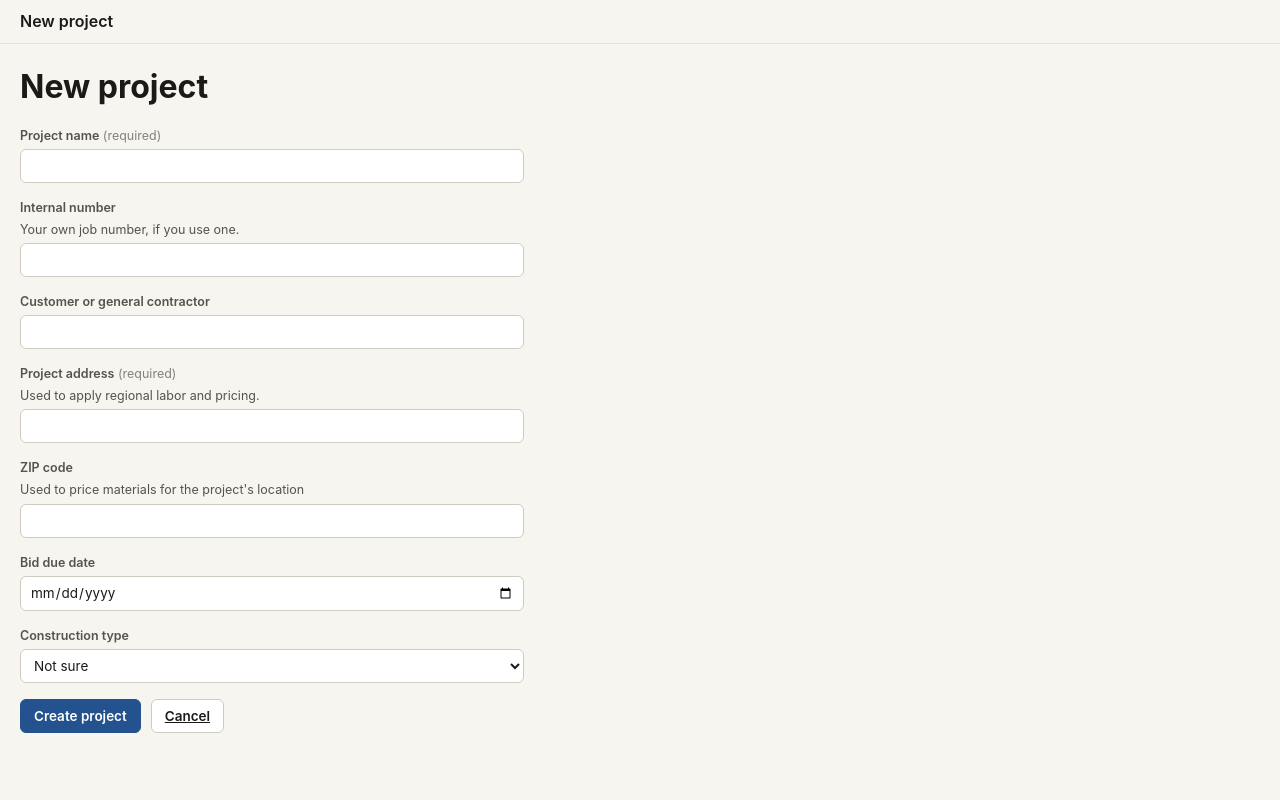
NewProject › blocks submission with a message beside the field when the name is blank
The width and height of the screenshot is (1280, 800).
In the field labelled "Project address (required)": [272, 426] box [20, 409, 524, 443], type "Modesto, CA"
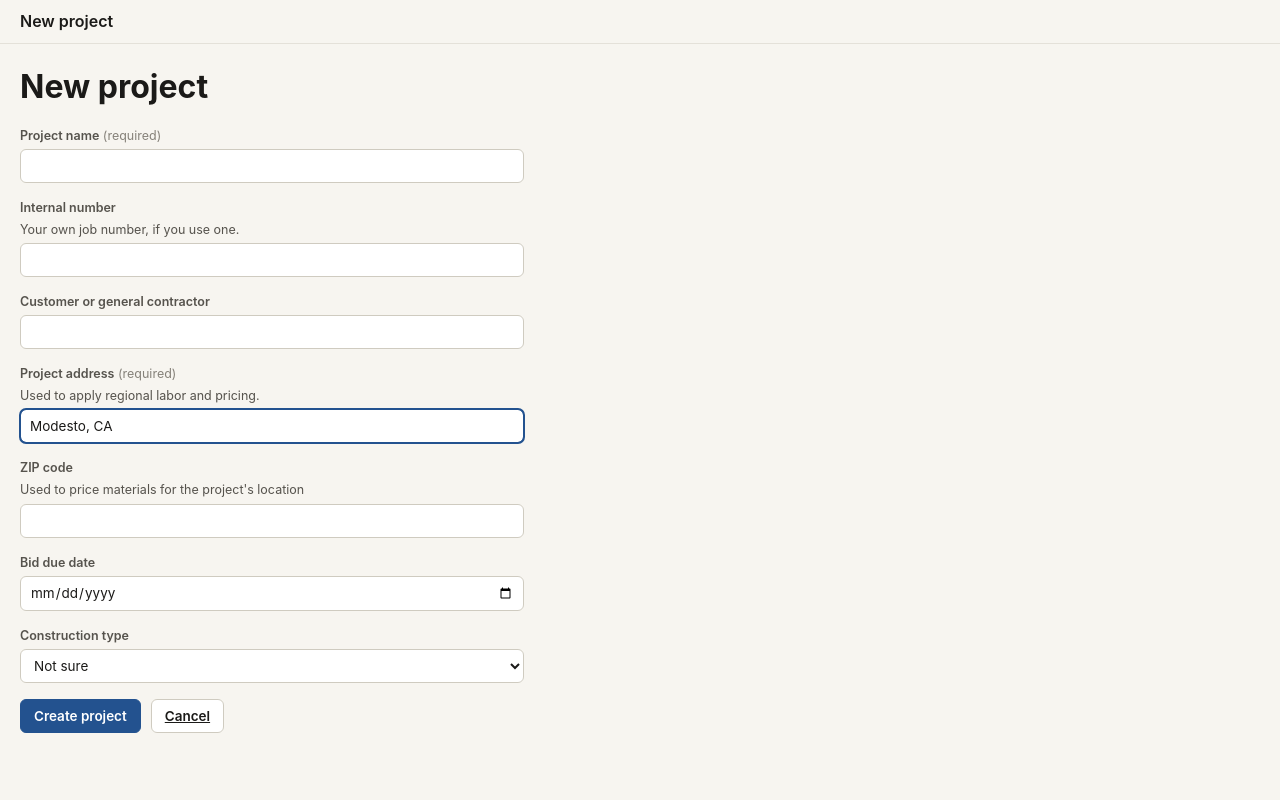
Click the button "Create project": [80, 716] box [20, 699, 141, 733]
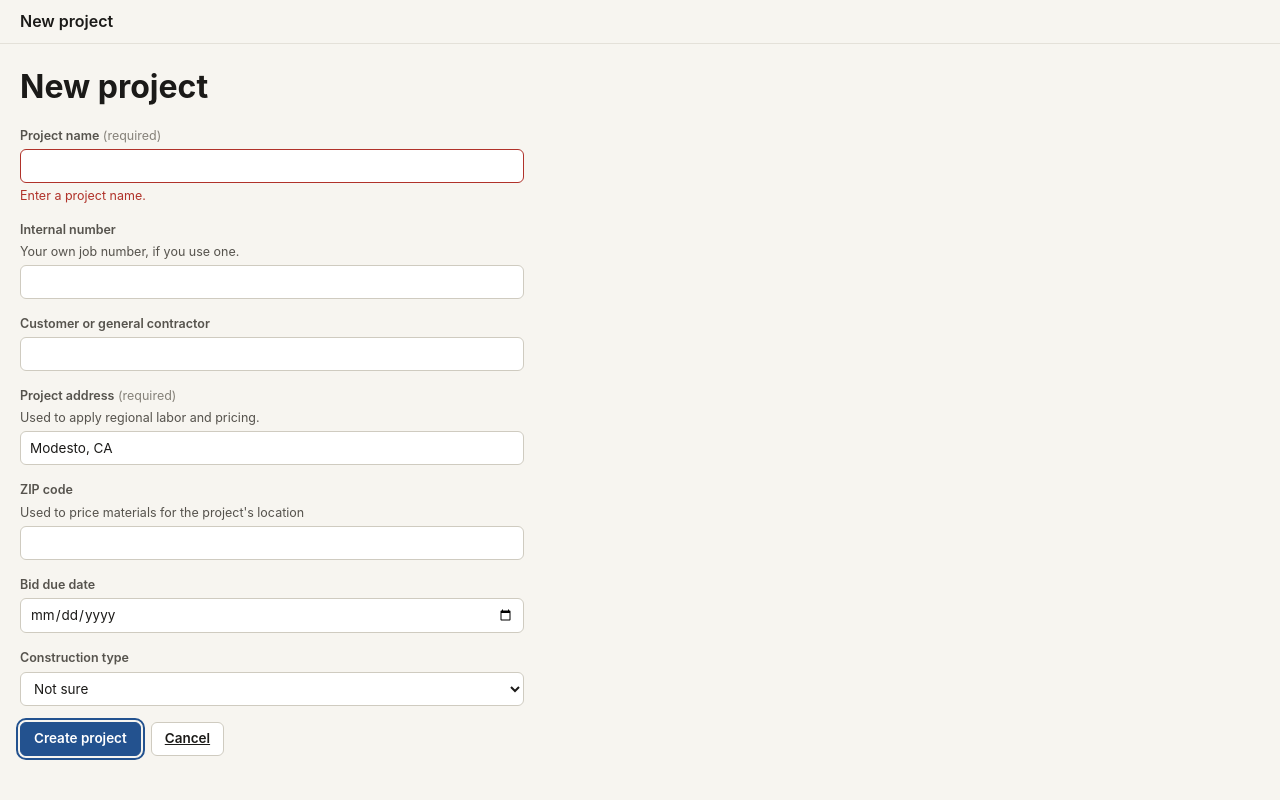
Expected: the text "Enter a project name." is shown, [20, 188, 146, 203]
